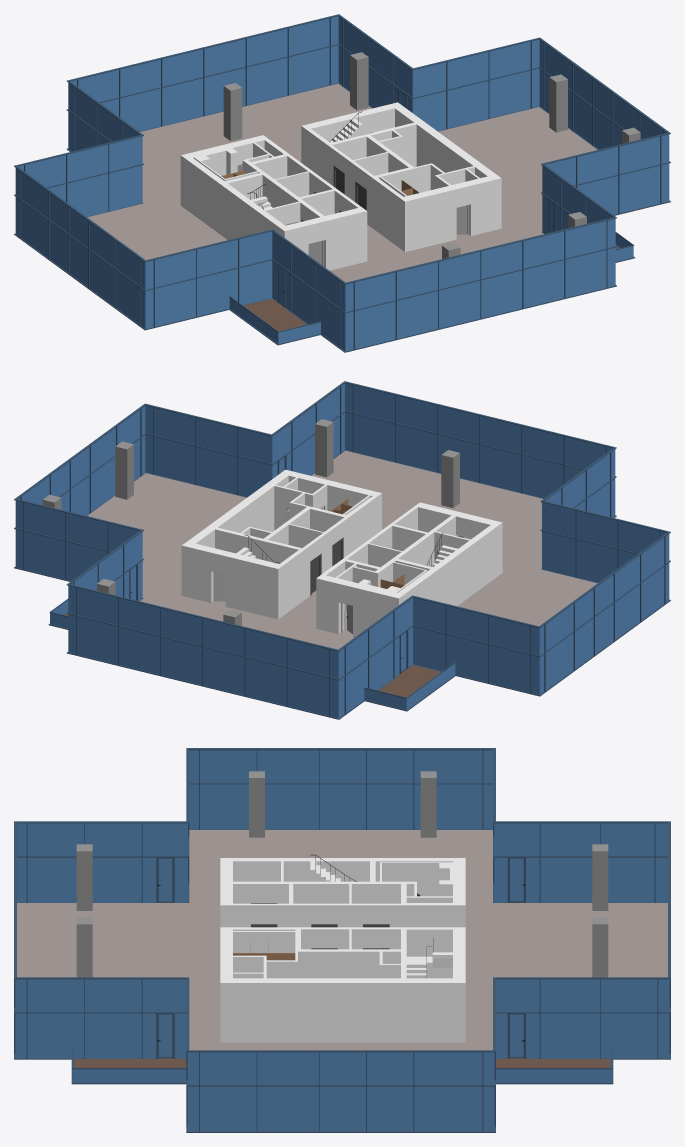
Rendered from Floor plan 27.glb.
3 views of the same model, one above another, from view 1: azimuth 30°, elevation 25°; view 2: azimuth 150°, elevation 25°; view 3: azimuth 270°, elevation 25° (orthographic). The views are drawn at different scales.
Visible parts, largest first — view 1: Floor pla4, Box17174; view 2: Floor pla4, Box17174; view 3: Floor pla4, Box17174.
Boxes of the visible parts, x1,y1,x2,y2 form: Floor pla4: [14, 14, 670, 352]; Box17174: [180, 102, 501, 270]; Floor pla4: [14, 381, 670, 719]; Box17174: [181, 469, 502, 637]; Floor pla4: [14, 748, 670, 1132]; Box17174: [220, 854, 465, 1042].
Bounding box in the file's own units: 38.04 × 4.76 × 34.82.
